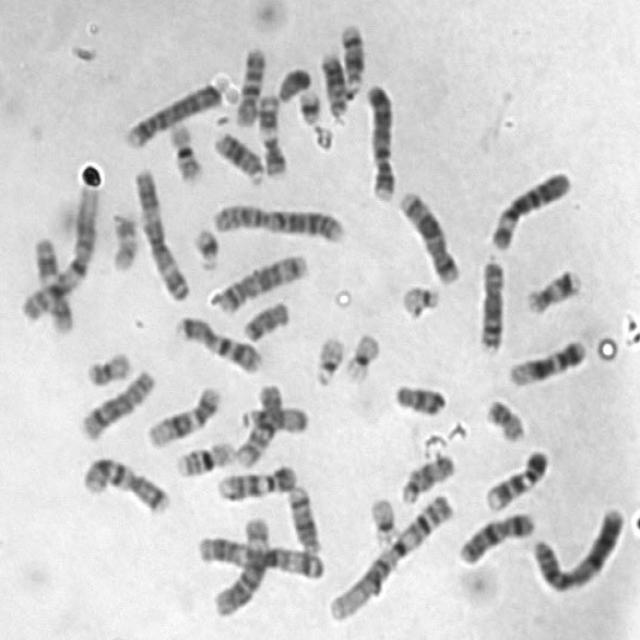A1: (320, 485, 457, 624), (14, 175, 104, 324)
A2: (523, 498, 628, 596), (205, 192, 348, 245)
A3: (127, 159, 191, 303), (191, 528, 327, 582)
B4: (118, 73, 225, 149), (357, 74, 398, 202)
B5: (391, 181, 462, 285), (207, 244, 310, 315)
C10: (228, 375, 284, 468), (228, 37, 269, 128)
C11: (26, 228, 74, 336), (250, 85, 290, 179)
C12: (140, 377, 224, 449), (501, 329, 590, 388)
C6: (483, 162, 573, 252), (205, 508, 271, 618)
C7: (74, 448, 173, 516), (170, 307, 264, 375)
C8: (72, 361, 157, 443), (471, 250, 508, 354)
C9: (478, 440, 552, 513), (211, 456, 299, 502)
D13: (206, 122, 266, 186), (312, 43, 348, 117)
D14: (280, 477, 323, 555), (333, 15, 367, 90)
D15: (394, 445, 457, 506), (235, 397, 310, 434)
E16: (169, 432, 236, 478), (162, 114, 204, 182)
E17: (519, 260, 583, 316), (104, 204, 141, 272)
E18: (236, 291, 293, 343), (386, 374, 449, 418)
F19: (338, 323, 382, 384), (362, 487, 400, 545)
F20: (477, 390, 529, 444), (79, 343, 133, 387)
G21: (186, 218, 222, 273), (292, 82, 323, 125)
G22: (307, 327, 347, 387), (394, 275, 444, 321)
X: (451, 503, 538, 567)
Y: (270, 58, 313, 104)
